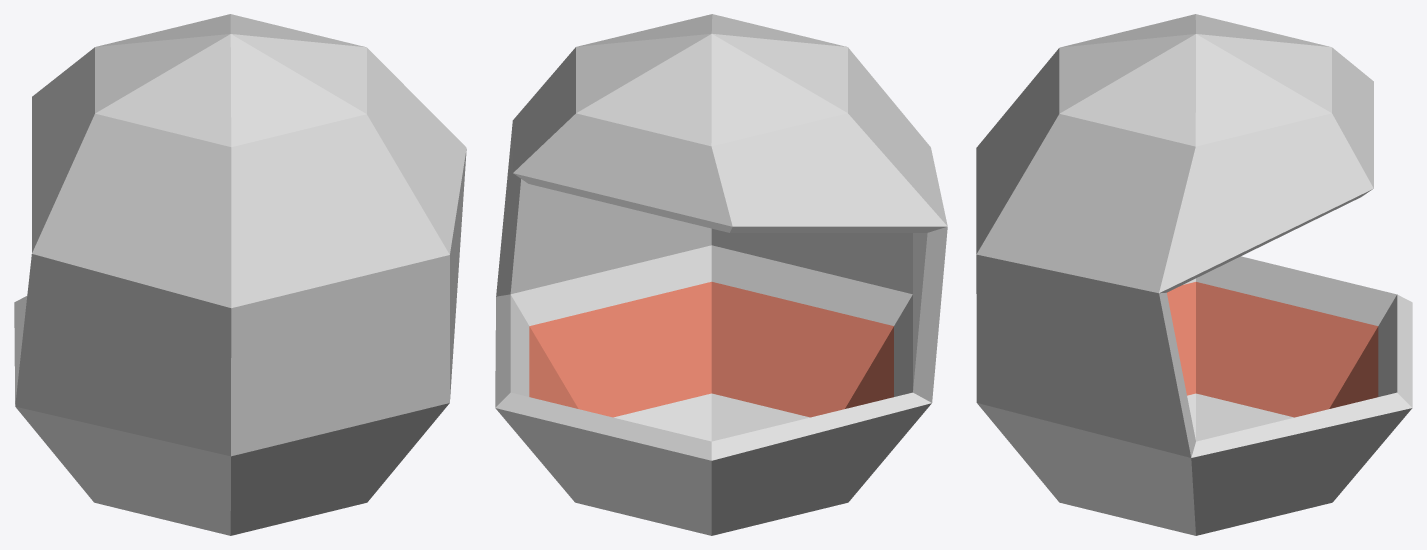
File: helmet.fbx
The picture shows the model from 3 angles, left to right: view 1: azimuth 30°, elevation 25°; view 2: azimuth 150°, elevation 25°; view 3: azimuth 270°, elevation 25°; orthographic projection.
Parts seen in each view (by area): view 1: Helmet; view 2: Helmet; view 3: Helmet.
Part boxes in pixels (x1,y1,x2,y2): Helmet: (14, 14, 466, 535); Helmet: (495, 14, 947, 535); Helmet: (976, 14, 1412, 535).
Bounding box in the file's own units: 1.3 × 1.37 × 1.13.
